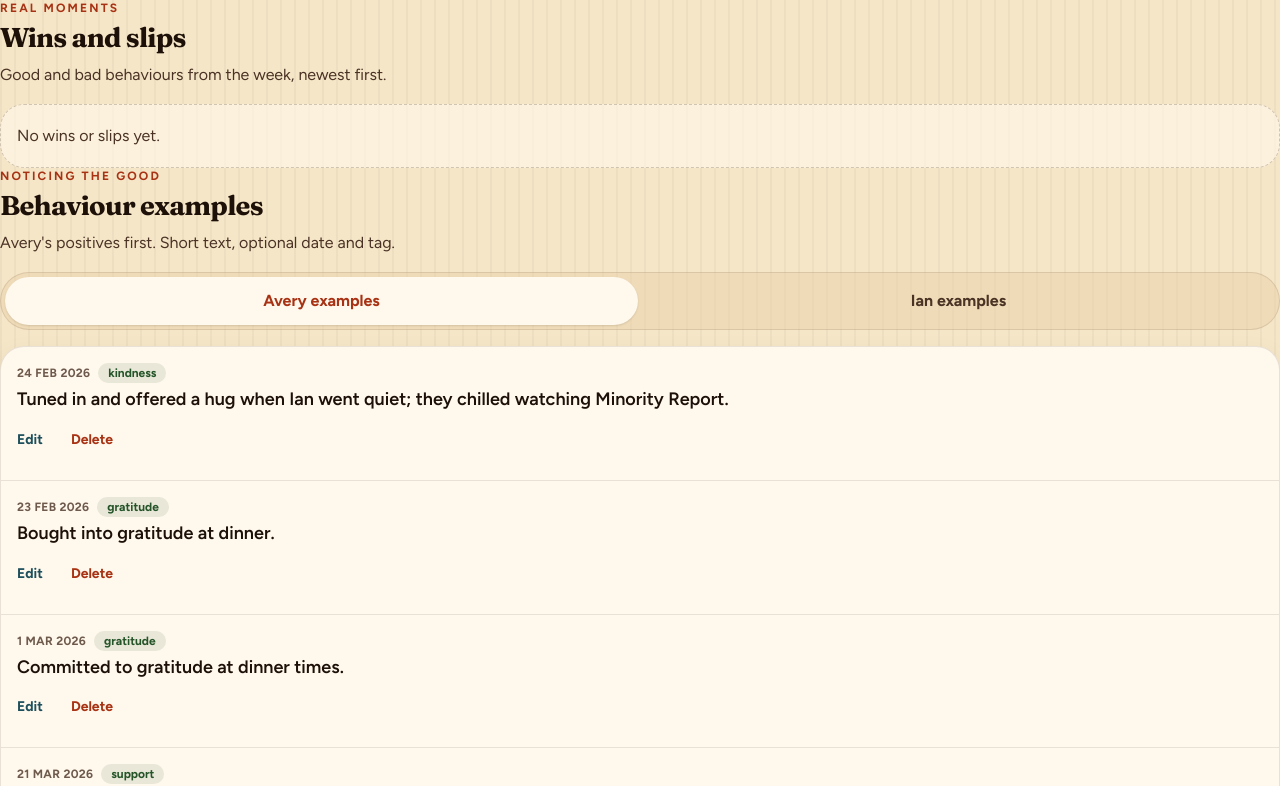
Test case: Together notes section › shows Avery positives by default and can switch to Ian
Expected: the text "Minority Report" is shown, [17, 388, 729, 410]
Expected: the text "waited until she moved to gratitude" is not shown
Click the tab "Ian examples" at (958, 301), box [642, 277, 1275, 325]
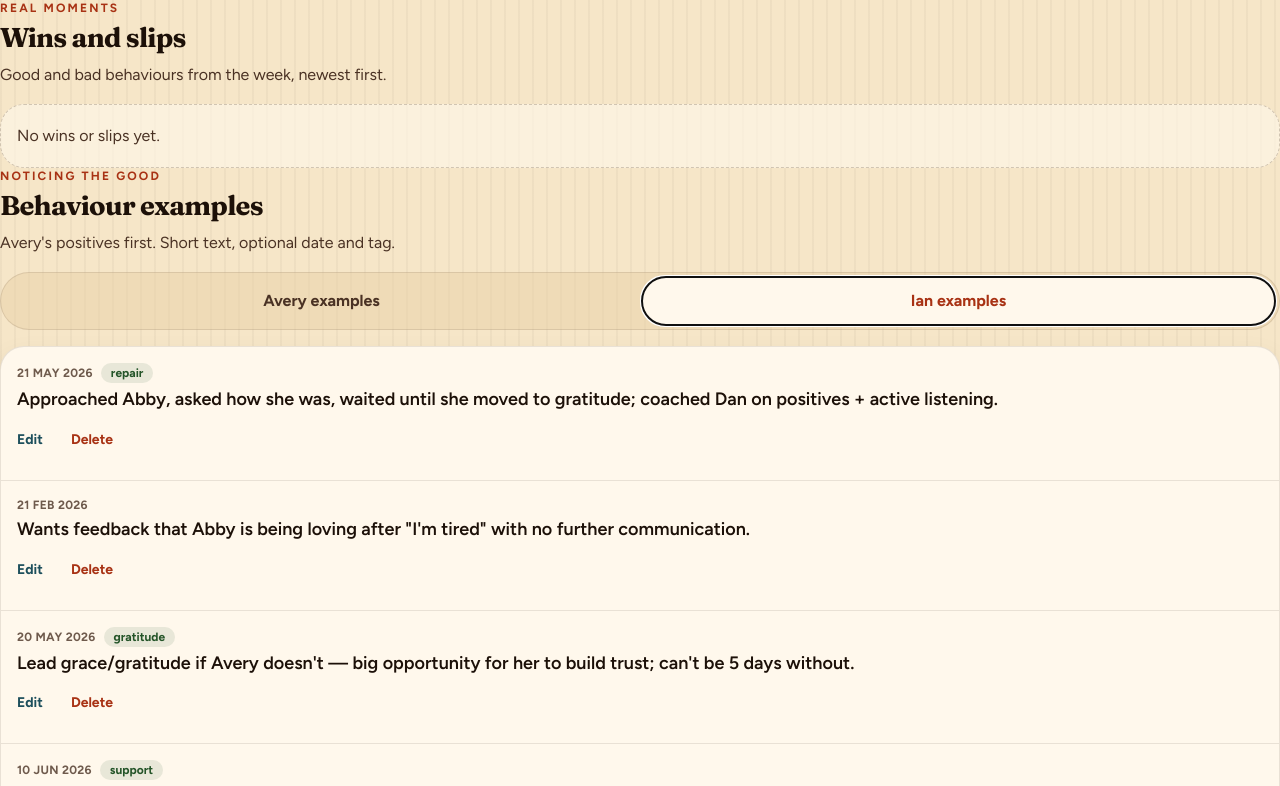
Expected: the text "waited until she moved to gratitude" is shown, [17, 388, 998, 410]
